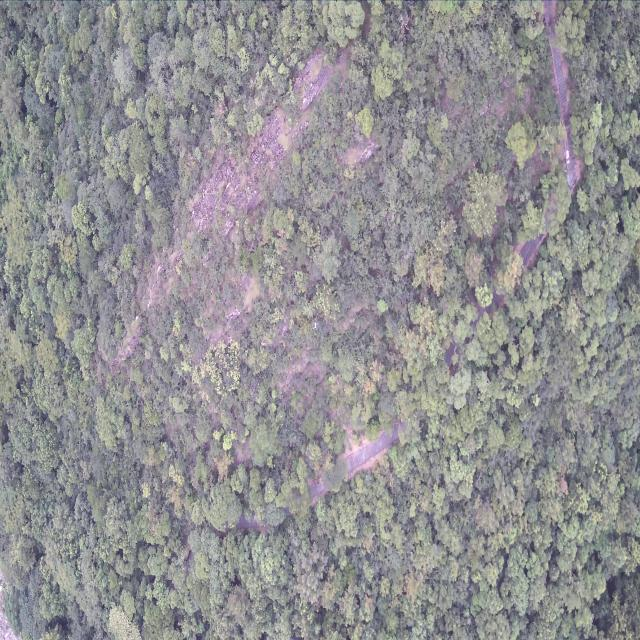drone: (312, 321, 318, 330)
